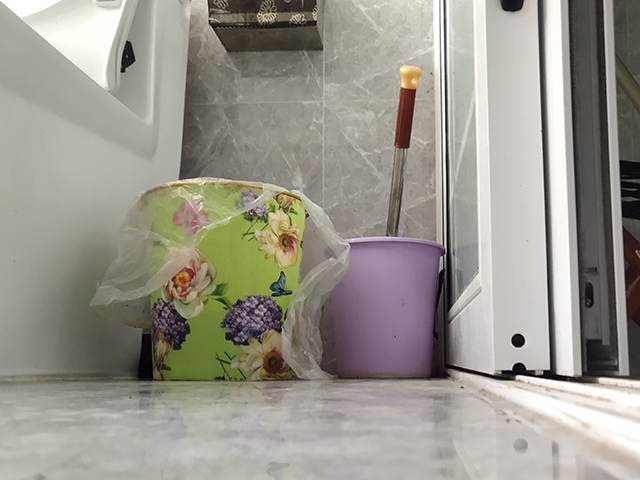closestool: (1, 1, 192, 384)
trashcan: (133, 176, 311, 383)
